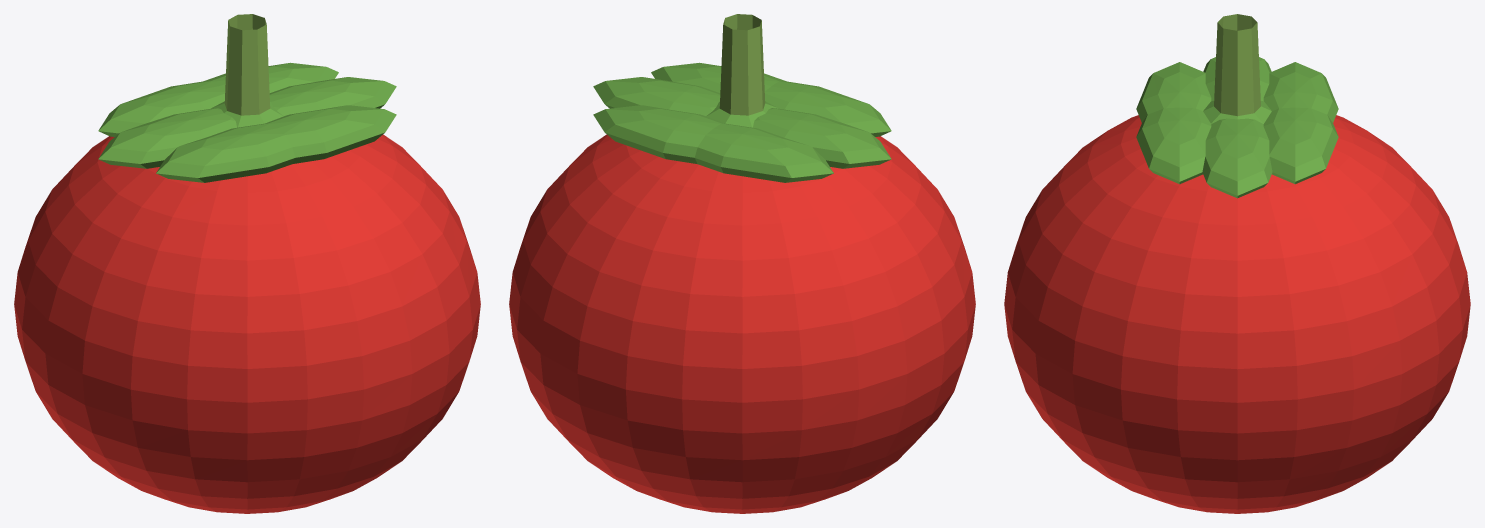
Rendered from tomato (1).obj.
3 renders of one model, left to right at view 1: azimuth 30°, elevation 25°; view 2: azimuth 150°, elevation 25°; view 3: azimuth 270°, elevation 25°, orthographic.
Bounding box in the file's own units: 1.05 × 1.16 × 1.05.
